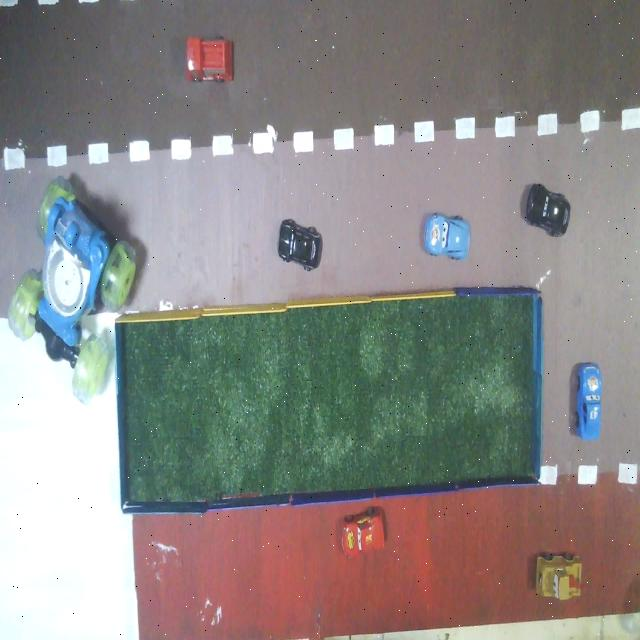driver car f: (8, 176, 136, 402)
small cars: (526, 184, 570, 236), (278, 219, 322, 271), (342, 507, 385, 558), (424, 214, 470, 260), (536, 553, 581, 600), (187, 39, 232, 81), (576, 365, 601, 439)
